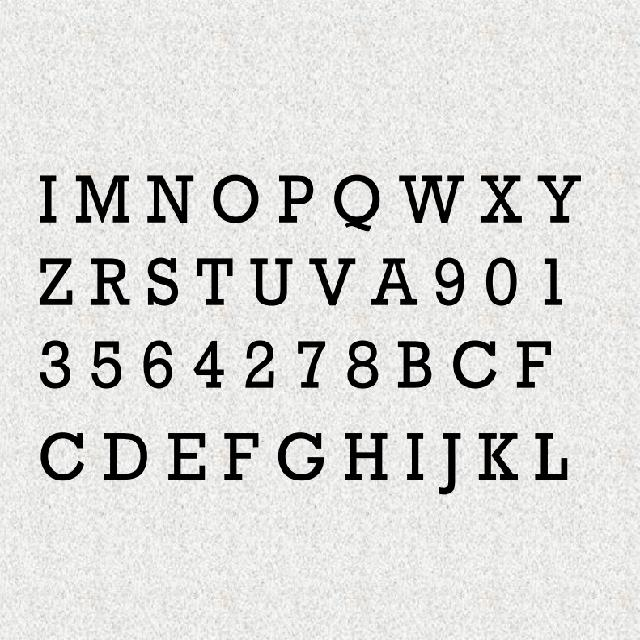0: (485, 256, 516, 310)
1: (536, 425, 571, 481), (540, 253, 562, 307)
2: (244, 338, 274, 391)
3: (39, 338, 70, 390)
4: (194, 336, 224, 392)
5: (93, 337, 121, 390)
6: (142, 339, 172, 392)
7: (294, 339, 324, 389)
8: (348, 339, 378, 390)
9: (435, 255, 465, 309)
C: (39, 427, 87, 486), (451, 335, 497, 392)
N: (144, 167, 192, 222)
P: (277, 175, 312, 226)
R: (92, 256, 130, 309)
S: (148, 256, 178, 309)
T: (196, 255, 232, 307)
U: (255, 255, 292, 306)
W: (401, 168, 465, 224)
X: (480, 172, 524, 228)
Y: (539, 167, 583, 224)
Z: (40, 256, 75, 306)
